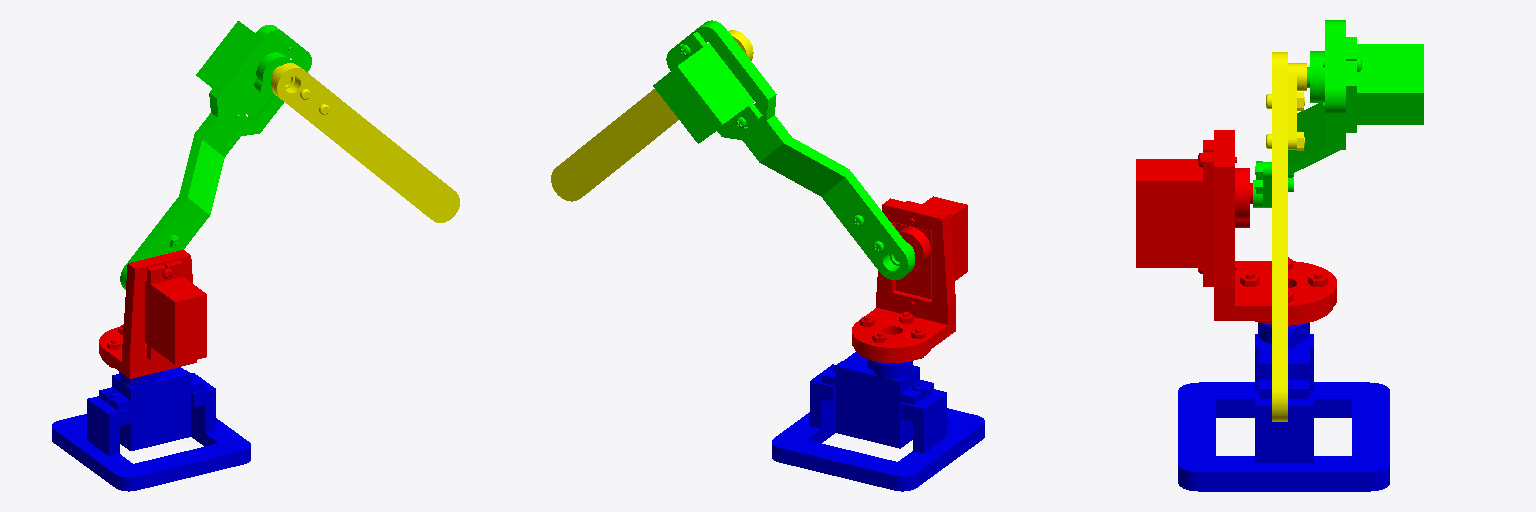
URDF robot description (s5_3axis):
<?xml version="1.0" ?>
<robot name="s5_3axis">
    <material name="blue">
        <color rgba="0.0 0.0 1.0 2.0" />
    </material>
    <material name="red">
        <color rgba="1.0 0.0 0.0 2.0" />
    </material>
    <material name="green">
        <color rgba="0.0 1.0 0.0 2.0" />
    </material>
    <material name="yellow">
        <color rgba="1.0 1.0 0.0 2.0" />
    </material>
    <material name="white">
        <color rgba="1.0 1.0 1.0 2.0" />
    </material>
    <link name="base_link" />
    <joint name="base_joint" type="fixed">
        <parent link="base_link" />
        <child link="link1" />
    </joint>
    <link name="link1">
        <visual>
            <geometry>
                <mesh filename="package://s5_3axis/stl/Link1.stl" />
            </geometry>
            <origin xyz="0 0 0" rpy="0 0 0" />
            <material name="blue" />
        </visual>
        <collision>
            <geometry>
                <box size="0.050 0.050 0.031" />
            </geometry>
            <origin xyz="0 0 0.0155" rpy="0 0 0" />
            <material name="blue" />
        </collision>
        <inertial>
            <origin xyz="0 0 0.0155" rpy="0 0 0" />
            <mass value="0.024534" />
            <inertia ixx="0.000007076" ixy="0" ixz="0" iyx="0" iyy="0.000007076" iyz="0" izx="0" izy="0" izz="0.000010223" />
        </inertial>
    </link>
    <joint name="joint1" type="revolute">
        <parent link="link1" />
        <child link="link2" />
        <origin xyz="-0.00515 0 0.034" rpy="0 0 0" />
        <axis xyz="0 0 1" />
        <limit lower="-1.57" upper="1.57" effort="30" velocity="6.284" />
    </joint>
    <link name="link2">
        <visual>
            <geometry>
                <mesh filename="package://s5_3axis/stl/Link2.stl" />
            </geometry>
            <origin xyz="0 0 0.002" rpy="0 0 0" />
            <material name="red" />
        </visual>
        <collision>
            <geometry>
                <box size="0.025 0.0232 0.039" />
            </geometry>
            <origin xyz="0 -0.0232 0.0215" rpy="0 0 0" />
            <material name="red" />
        </collision>
        <inertial>
            <origin xyz="0 -0.0232 0.0215" rpy="0 0 0" />
            <mass value="0.022" />
            <inertia ixx="0.000003775" ixy="0" ixz="0" iyx="0" iyy="0.000003934" iyz="0" izx="0" izy="0" izz="0.000002133" />
        </inertial>
    </link>
    <joint name="joint2" type="revolute">
        <parent link="link2" />
        <child link="link3" />
        <origin xyz="0 -0.0051 0.0293" rpy="0 0.785398163397 0" />
        <axis xyz="0 1 0" />
        <limit lower="-1.57" upper="1.57" effort="30" velocity="6.284" />
    </joint>
    <link name="link3">
        <visual>
            <geometry>
                <mesh filename="package://s5_3axis/stl/Link3.stl" />
            </geometry>
            <origin xyz="0 0.0021 0" rpy="0 0 0" />
            <material name="green" />
        </visual>
        <collision>
            <geometry>
                <box size="0.012 0.005 0.0977" />
            </geometry>
            <origin xyz="0 0.0172 0.04285" rpy="0 0 0" />
            <material name="green" />
        </collision>
        <inertial>
            <origin xyz="0 0.0172 0.04285" rpy="0 0 0" />
            <mass value="0.021116" />
            <inertia ixx="0.000016841" ixy="0" ixz="0" iyx="0" iyy="0.000017050" iyz="0" izx="0" izy="0" izz="0.000000297" />
        </inertial>
    </link>
    <joint name="joint3" type="revolute">
        <parent link="link3" />
        <child link="link4" />
        <origin xyz="0 0.0082 0.080" rpy="0 -1.570796326795 3.1415926535897931" />
        <axis xyz="0 1 0" />
        <limit lower="-1.57" upper="1.57" effort="30" velocity="6.284" />
    </joint>
    <link name="link4">
        <visual>
            <geometry>
                <mesh filename="package://s5_3axis/stl/Link4.stl" />
            </geometry>
            <origin xyz="0 0.0021 0" rpy="0 0 0" />
            <material name="yellow" />
        </visual>
        <collision>
            <geometry>
                <box size="0.012 0.004 0.092" />
            </geometry>
            <origin xyz="0 0.0041 0.040" rpy="0 0 0" />
            <material name="yellow" />
        </collision>
        <inertial>
            <origin xyz="0 0.0041 0.040" rpy="0 0 0" />
            <mass value="0.005476" />
            <inertia ixx="0.000003870" ixy="0" ixz="0" iyx="0" iyy="0.000003928" iyz="0" izx="0" izy="0" izz="0.000000073" />
        </inertial>
    </link>
</robot>

--- Render facts (derived) ---
The picture shows the robot from 3 angles, left to right: view 1: azimuth 30°, elevation 25°; view 2: azimuth 150°, elevation 25°; view 3: azimuth 270°, elevation 25°; orthographic projection.
Robot: s5_3axis — 5 links, 4 joints (3 revolute, 1 fixed); root link base_link; default pose: every joint at zero.
Visible links, largest first — view 1: link1, link3, link2, link4; view 2: link3, link1, link2, link4; view 3: link1, link2, link3, link4.
Boxes of the visible links, bbox=[...] form: link1: bbox=[52, 367, 250, 491]; link3: bbox=[120, 21, 311, 289]; link2: bbox=[99, 250, 206, 378]; link4: bbox=[271, 63, 459, 222]; link3: bbox=[653, 20, 914, 279]; link1: bbox=[772, 352, 984, 491]; link2: bbox=[852, 196, 967, 362]; link4: bbox=[551, 30, 753, 201]; link1: bbox=[1178, 323, 1389, 491]; link2: bbox=[1136, 130, 1336, 326]; link3: bbox=[1253, 20, 1423, 207]; link4: bbox=[1266, 52, 1306, 421].
Bounding box of the posed robot: 0.139 × 0.0676 × 0.1342 m (x, y, z).
4 mesh visuals loaded from 4 distinct referenced files (4 binary STL).